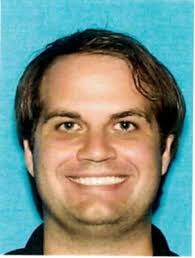No-Glasses: (35, 100, 155, 148)
